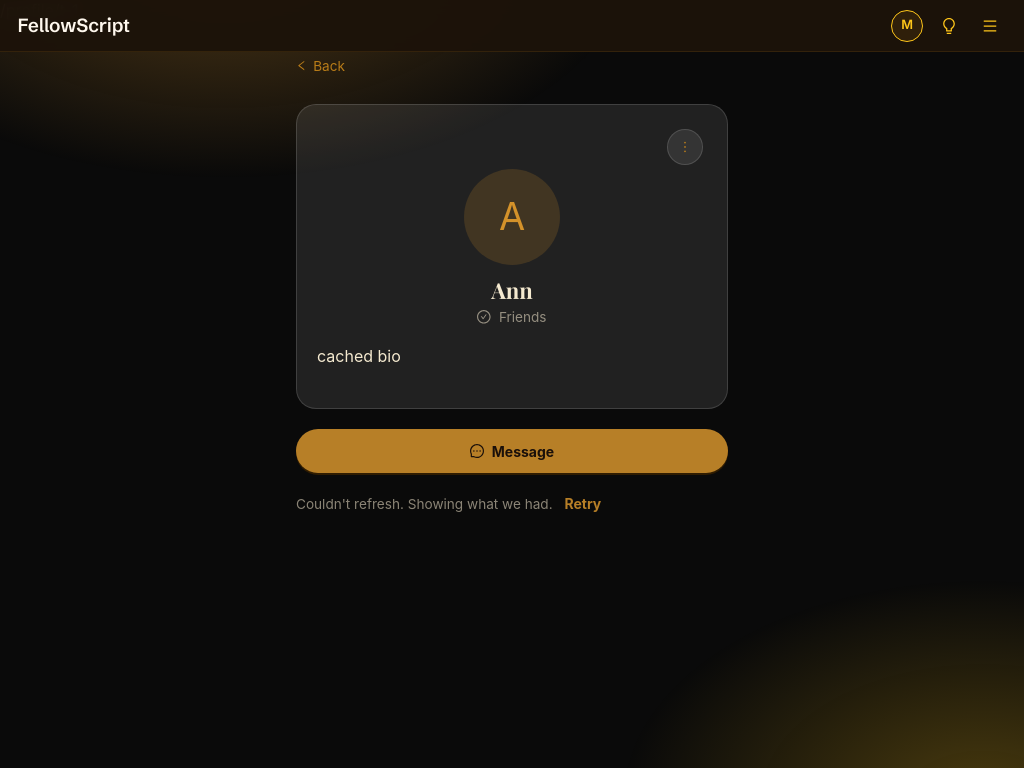
Scenario: Profile page load failure handling › network failure with cache: keeps showing the cached profile with the stale notice and Retry
Expected: the text "Couldn't refresh. Showing what we had. Retry" is shown, [296, 485, 609, 521]
Expected: the text "cached bio" is shown, [317, 346, 401, 366]
Click the button "Retry": x=583, y=503 [556, 485, 609, 521]
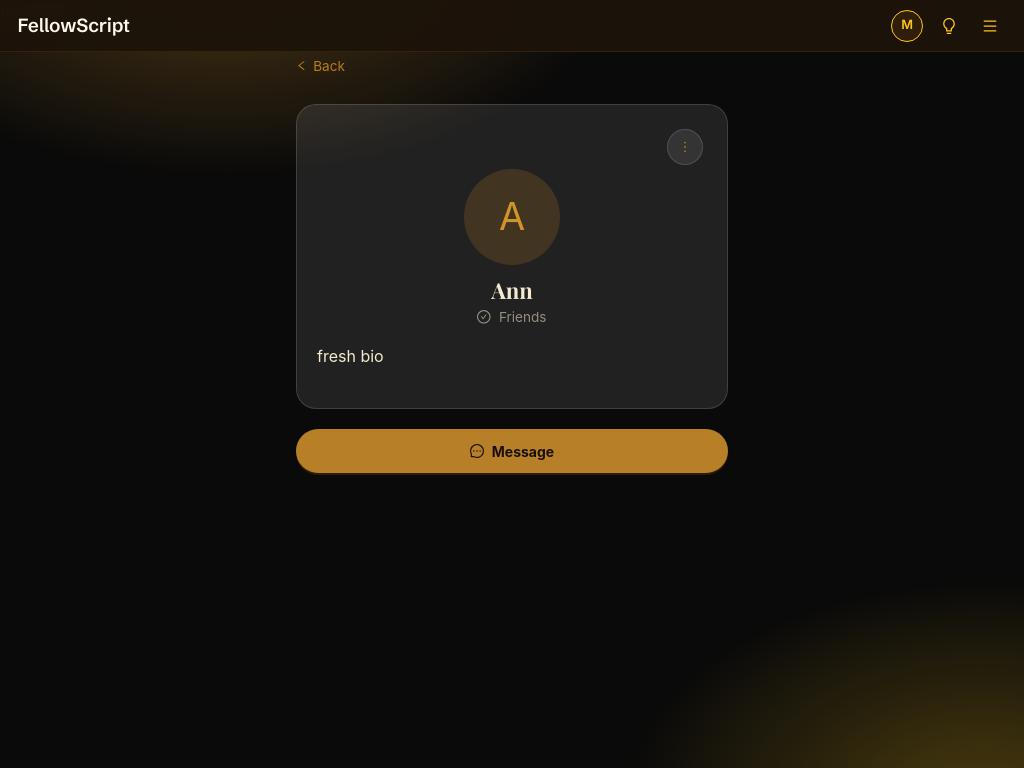
Expected: the text "fresh bio" is shown, [317, 346, 384, 366]
